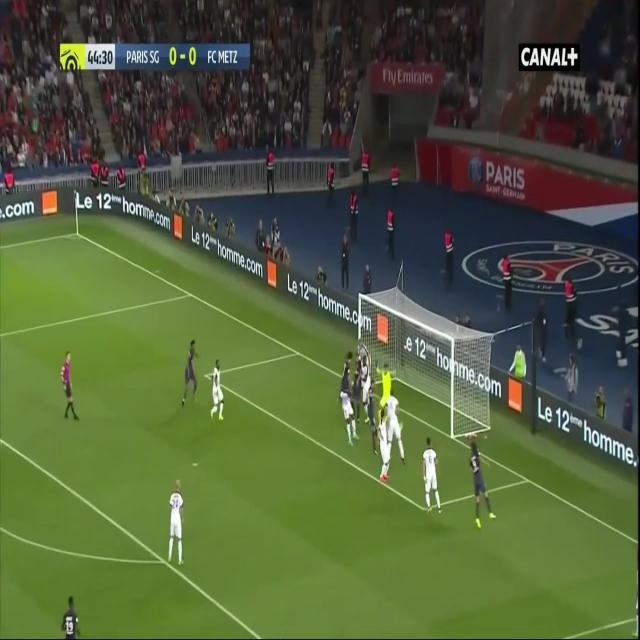Goalkeeper: (376, 357, 392, 410)
Player: (464, 435, 498, 529), (328, 350, 359, 444), (385, 390, 409, 470), (421, 436, 444, 516), (166, 481, 184, 570), (179, 336, 201, 408), (359, 355, 375, 425), (60, 594, 82, 640), (209, 359, 225, 422), (377, 407, 388, 487)
Referee: (58, 346, 82, 428)
